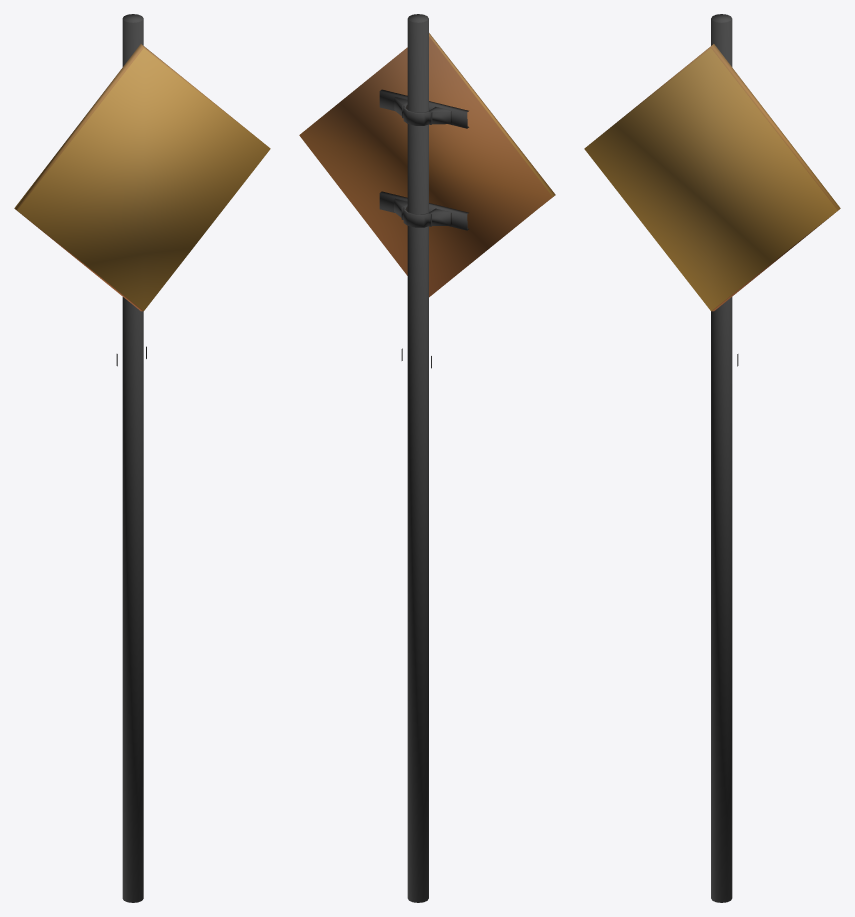
Rendered from furnishings-signs-roadsign_v3.glb.
3 renders of one model, left to right at view 1: azimuth 30°, elevation 25°; view 2: azimuth 150°, elevation 25°; view 3: azimuth 330°, elevation 25°, orthographic.
Visible parts, largest first — view 1: Roadsign_v3; view 2: Roadsign_v3; view 3: Roadsign_v3.
Part boxes in pixels (<box>): Roadsign_v3: <box>14,14,270,902</box>; Roadsign_v3: <box>299,14,555,902</box>; Roadsign_v3: <box>584,14,840,902</box>.
Size of the model in its own units: 0.7747 by 2.57 by 0.0907.
